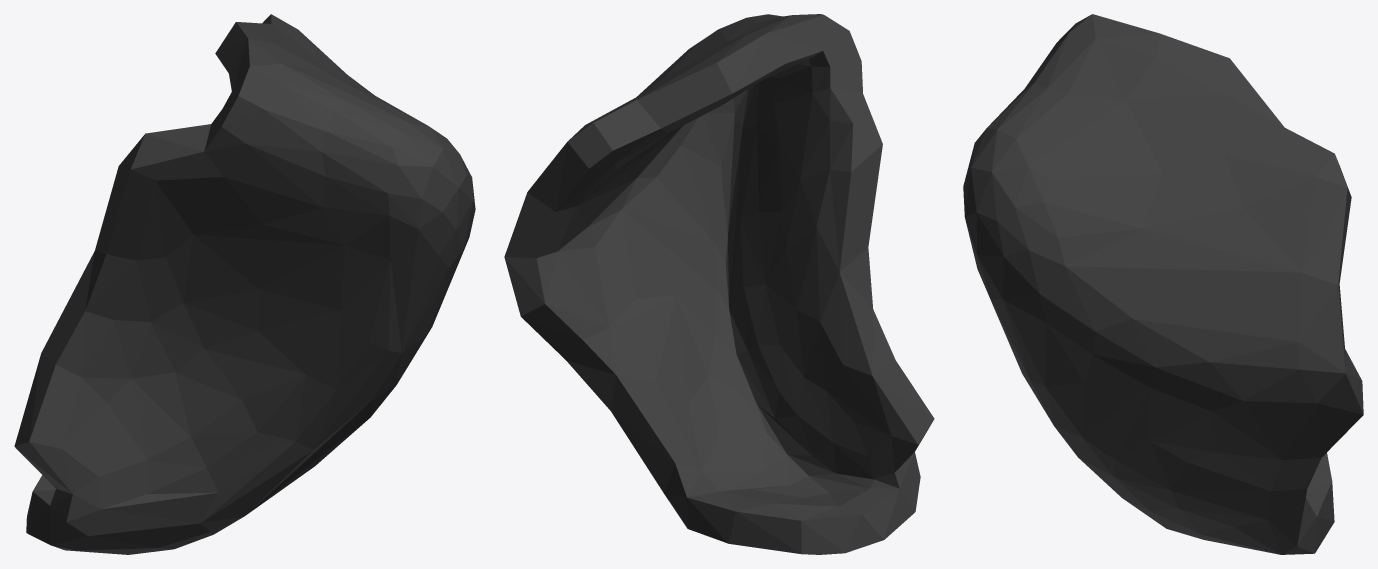
File: Talus_lateral_process.glb
3 views of the same model, side by side, from view 1: azimuth 30°, elevation 25°; view 2: azimuth 150°, elevation 25°; view 3: azimuth 270°, elevation 25° (orthographic). The views are drawn at different scales.
Parts seen in each view (by area): view 1: Talus_lateral_process; view 2: Talus_lateral_process; view 3: Talus_lateral_process.
Part boxes in pixels (<box>): Talus_lateral_process: <box>14,14,475,554</box>; Talus_lateral_process: <box>504,14,934,554</box>; Talus_lateral_process: <box>963,14,1363,554</box>.
Size of the model in its own units: 0.0109 by 0.0131 by 0.00894.
1 material, 1 textured.
